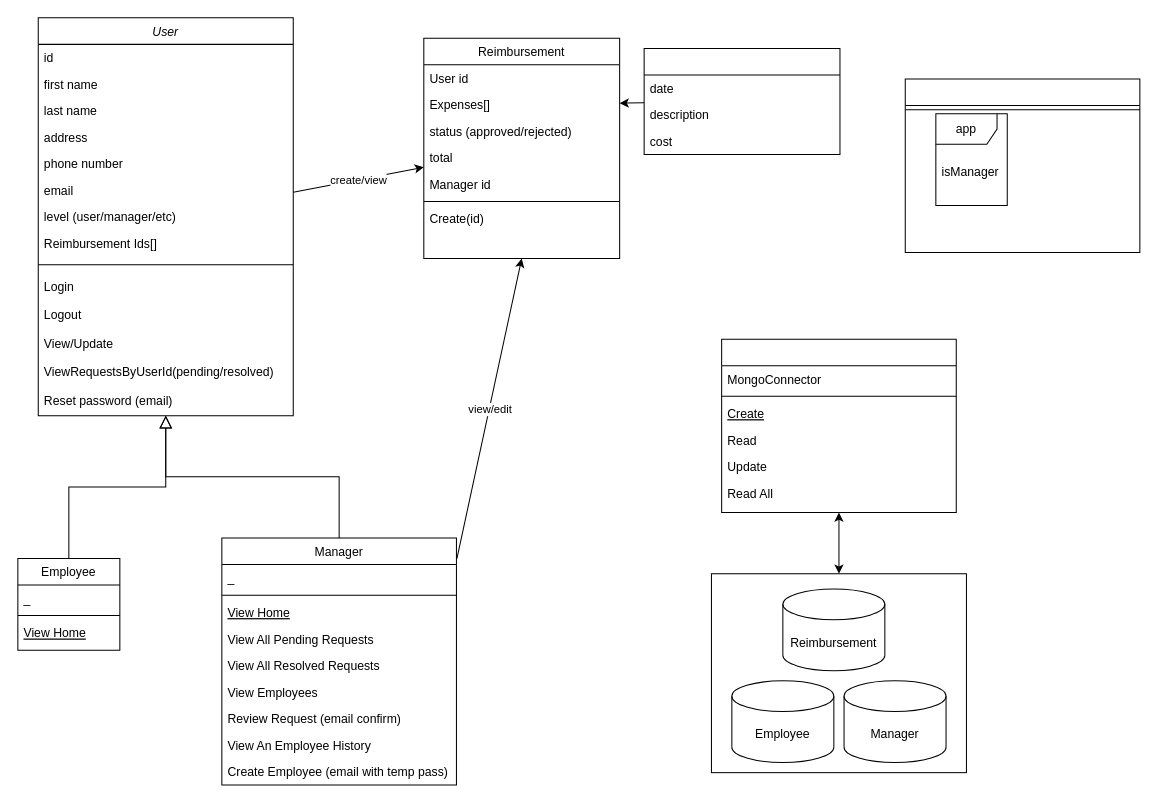
Some shapes in this 1158 by 806 pixel diagram are drawn without their labels. The box of each missing label's shape, as (x1, y1, x2, y2) in pixels:
Dao: (721, 338, 956, 513)
Expense: (643, 47, 840, 155)
Vertx: (904, 78, 1140, 252)
